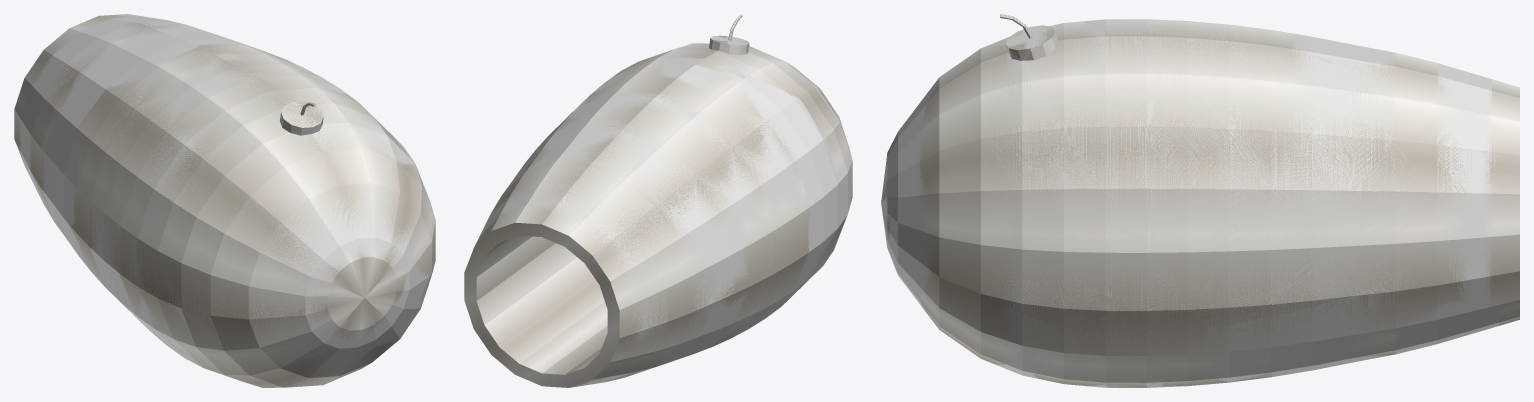
Rendered from weak.fbx.
3 views of the same model, side by side, from view 1: azimuth 30°, elevation 25°; view 2: azimuth 150°, elevation 25°; view 3: azimuth 270°, elevation 25° (orthographic). The views are drawn at different scales.
Visible parts, largest first — view 1: Col, Outside, FuseBaseTop; view 2: Col, Outside; view 3: Col, Outside, FuseBaseTop.
Boxes of the visible parts, left/top/right/bottom form: Col: left=14, top=14, right=435, bottom=387; Outside: left=19, top=16, right=432, bottom=387; FuseBaseTop: left=282, top=102, right=321, bottom=127; Col: left=464, top=35, right=852, bottom=387; Outside: left=480, top=43, right=852, bottom=386; Col: left=881, top=19, right=1519, bottom=387; Outside: left=887, top=19, right=1500, bottom=387; FuseBaseTop: left=1005, top=25, right=1050, bottom=49.
Bounding box in the file's own units: 0.8847 × 0.94 × 1.53.
Materials: 3 (1 with a texture image).
